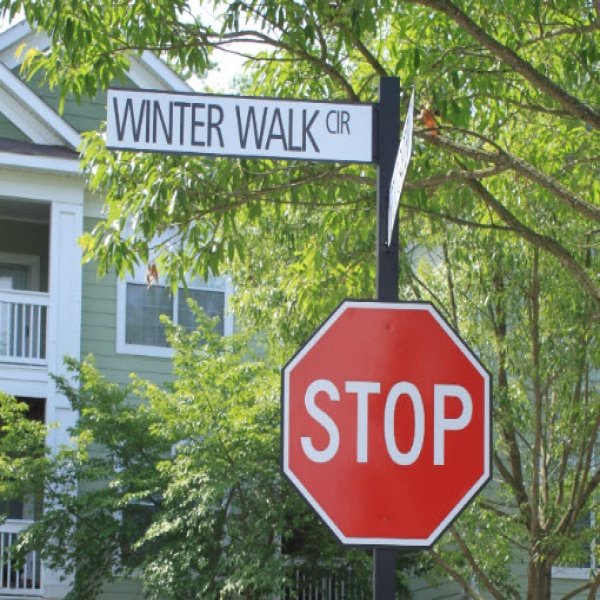stop: (283, 311, 486, 548)
